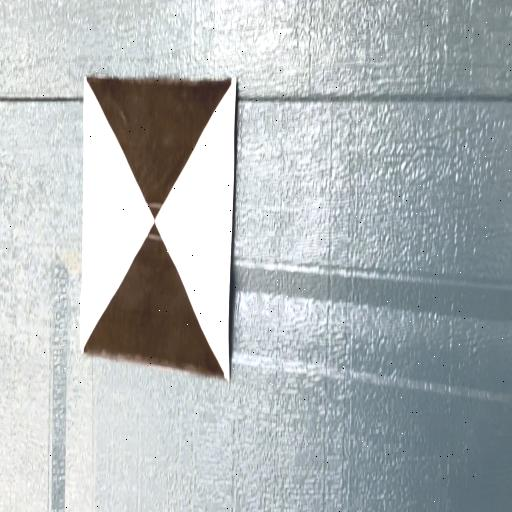target: (79, 78, 237, 381)
